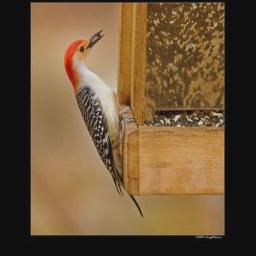Woodpecker: (63, 29, 143, 218)
